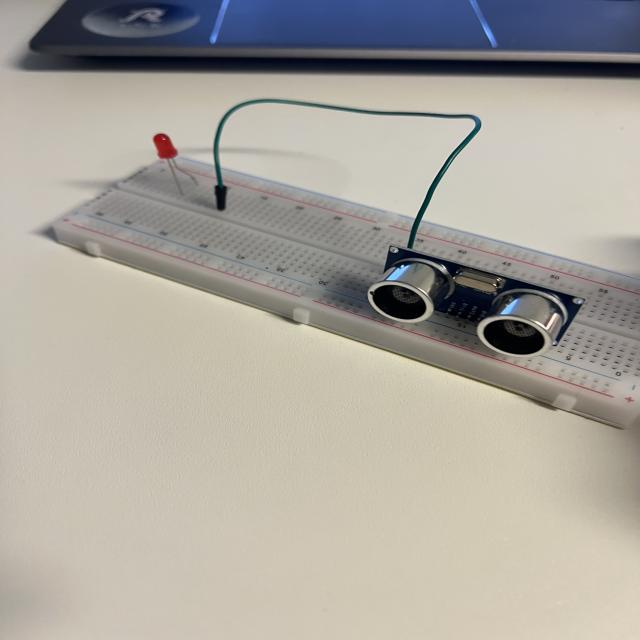BreadBoard: (53, 155, 637, 429)
REDLed: (142, 131, 210, 199)
UltrasoneSensor: (347, 242, 594, 369)
